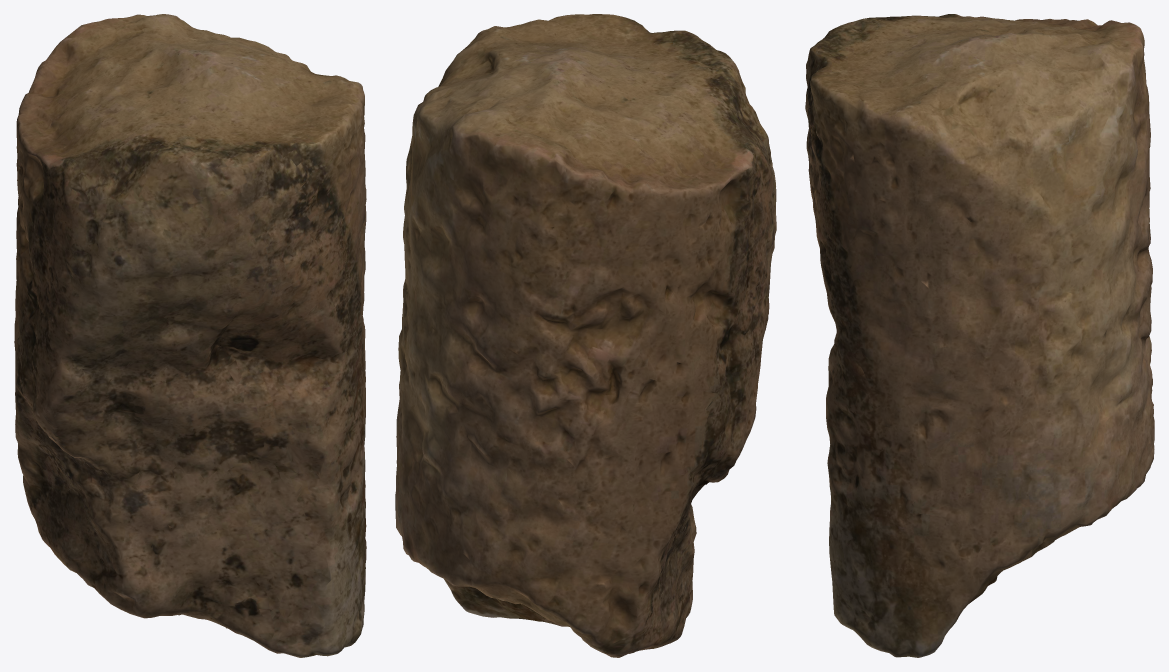
Rendered from C21bis.glb.
3 renders of one model, left to right at view 1: azimuth 30°, elevation 25°; view 2: azimuth 150°, elevation 25°; view 3: azimuth 270°, elevation 25°, orthographic. The views are drawn at different scales.
Visible parts, largest first — view 1: C21bis_25K; view 2: C21bis_25K; view 3: C21bis_25K.
Boxes of the visible parts, left/top/right/bottom form: C21bis_25K: left=14, top=14, right=366, bottom=657; C21bis_25K: left=395, top=14, right=776, bottom=657; C21bis_25K: left=805, top=14, right=1154, bottom=657.
Size of the model in its own units: 0.1126 by 0.1996 by 0.1115.
Materials: 1 (1 with a texture image).
